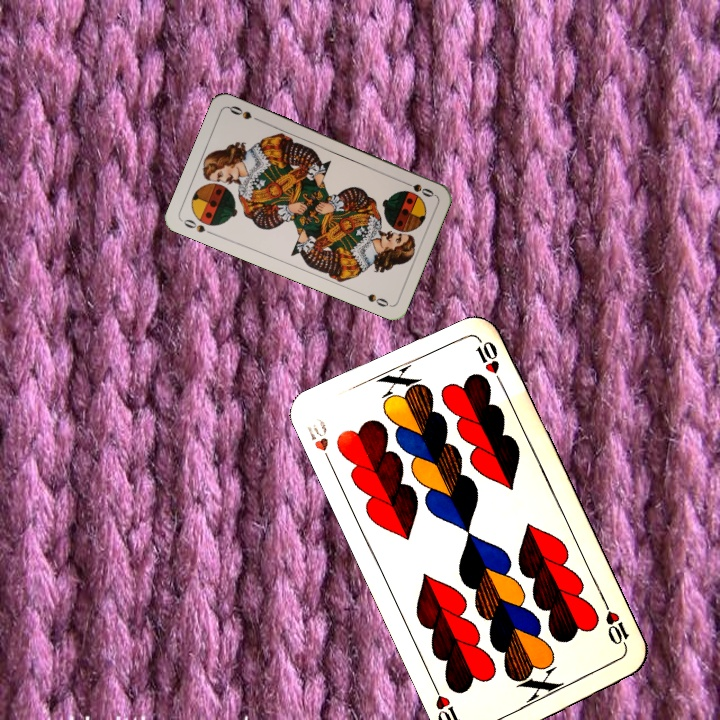H10: (303, 414, 336, 471), (600, 598, 632, 654)
SO: (398, 177, 436, 200), (179, 215, 217, 238)
